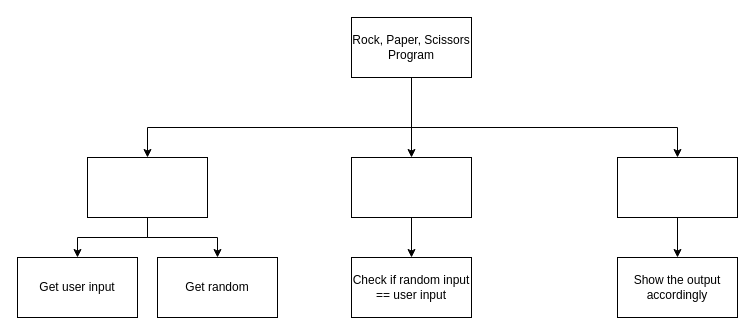
Image size: 755x335. Some labels were removed from this diagram. Here are the shapes that lost their labels. From the top down, the centre of each, then its label:
the point at 147,187: Input
the point at 411,187: Process
the point at 677,187: Output
